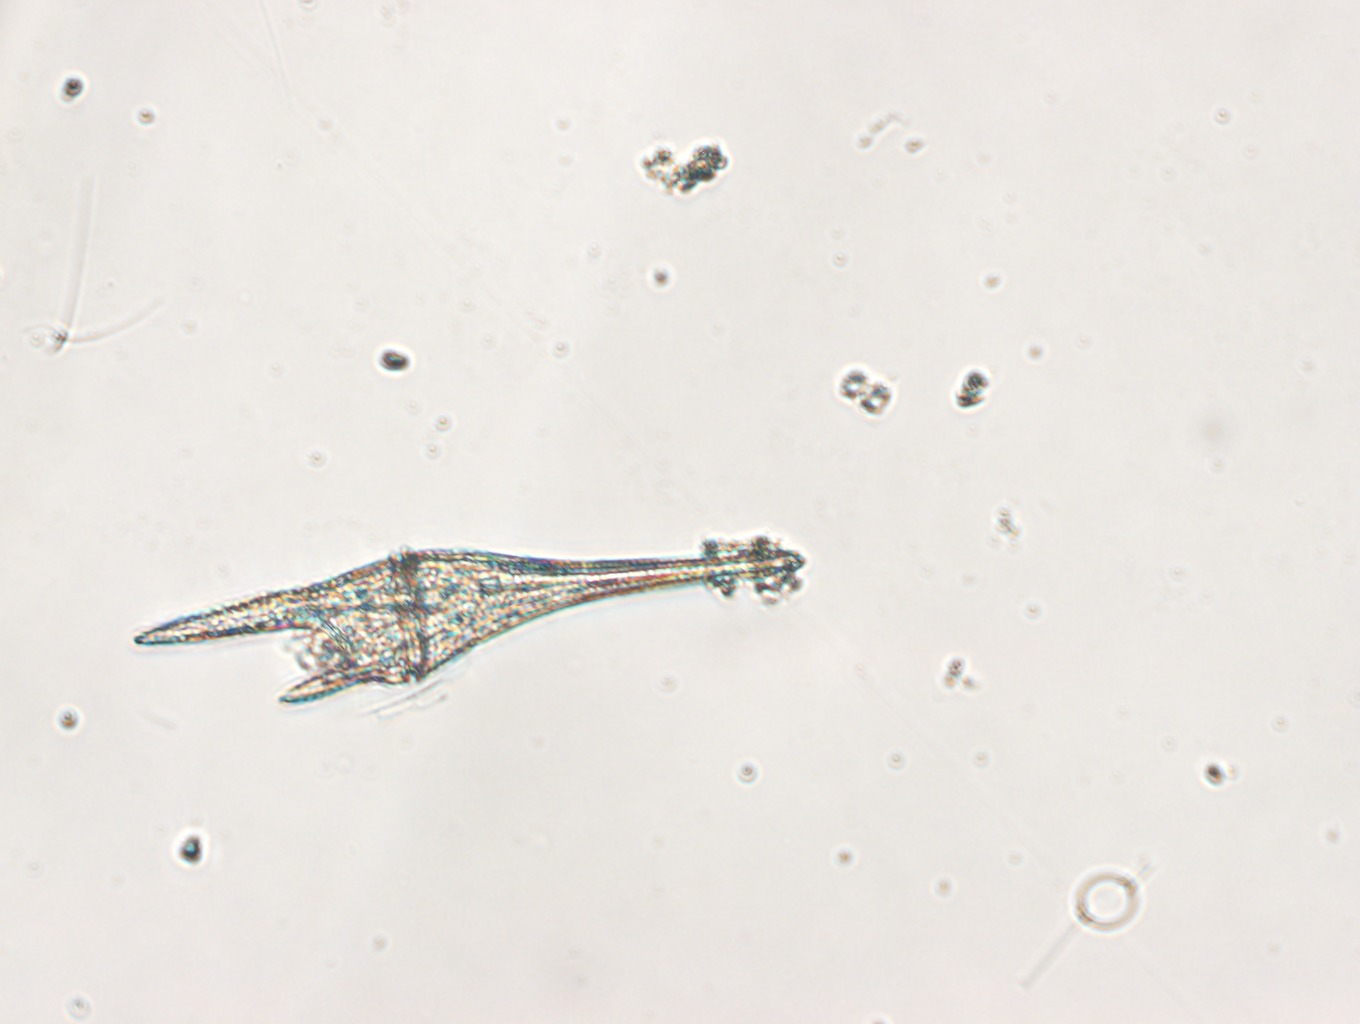ceratium furca: (132, 542, 807, 708)
